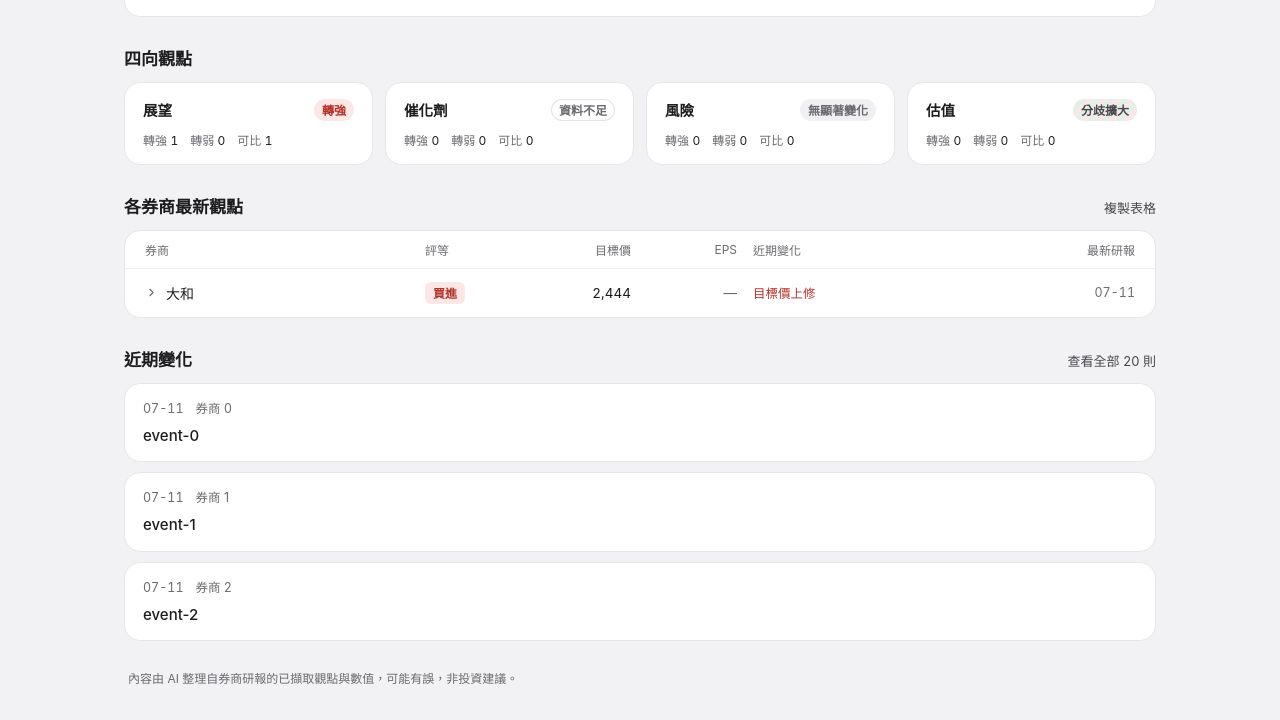
Test: RadarPage › 完整事件首次請求失敗時保留預覽，重試後恢復
(page scrolled)
What coordinates should you click on to do the following:
click the button "查看全部 20 則"
I would click on:
 (1112, 360)
Its box is [1068,351,1156,370].
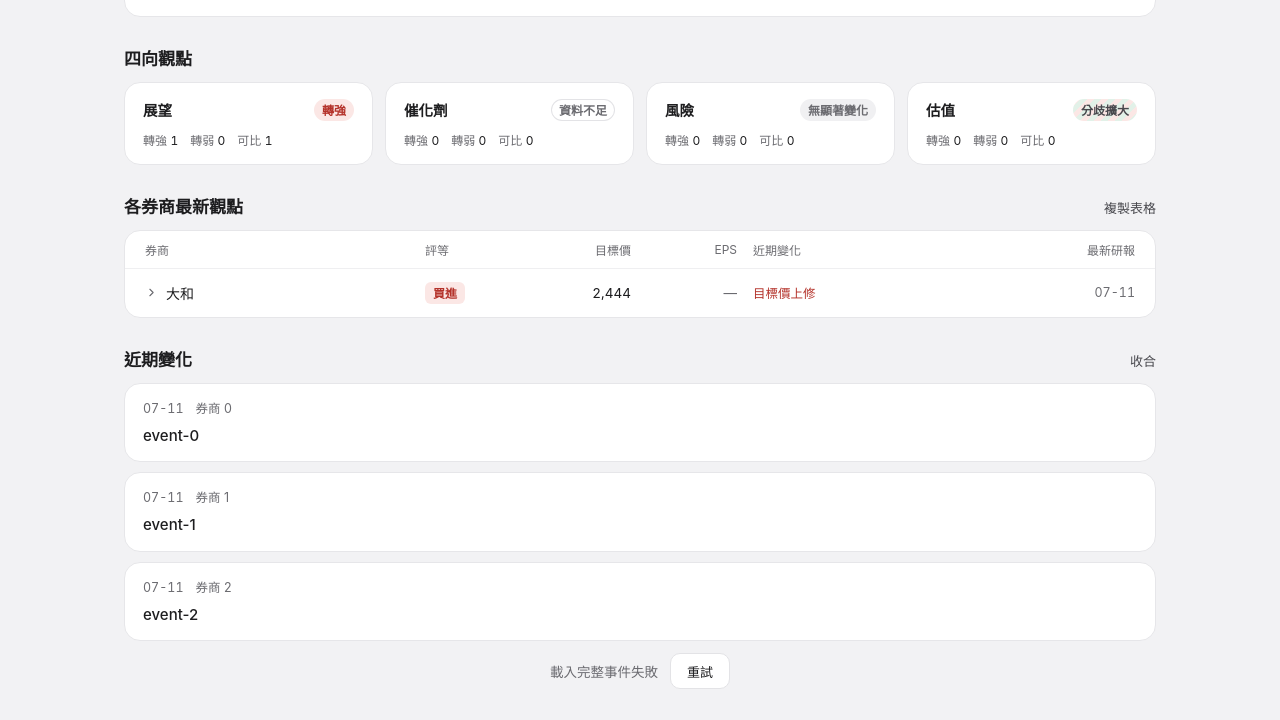
Expected: the text "event-0" is shown, [143,425,199,447]
Now the message shows "載入完整事件失敗", box [550,664,658,680]
What coordinates should you click on to do the following:
click the button "重試"
I would click on:
 (700, 671)
Its box is [670,653,730,689].
(page scrolled)
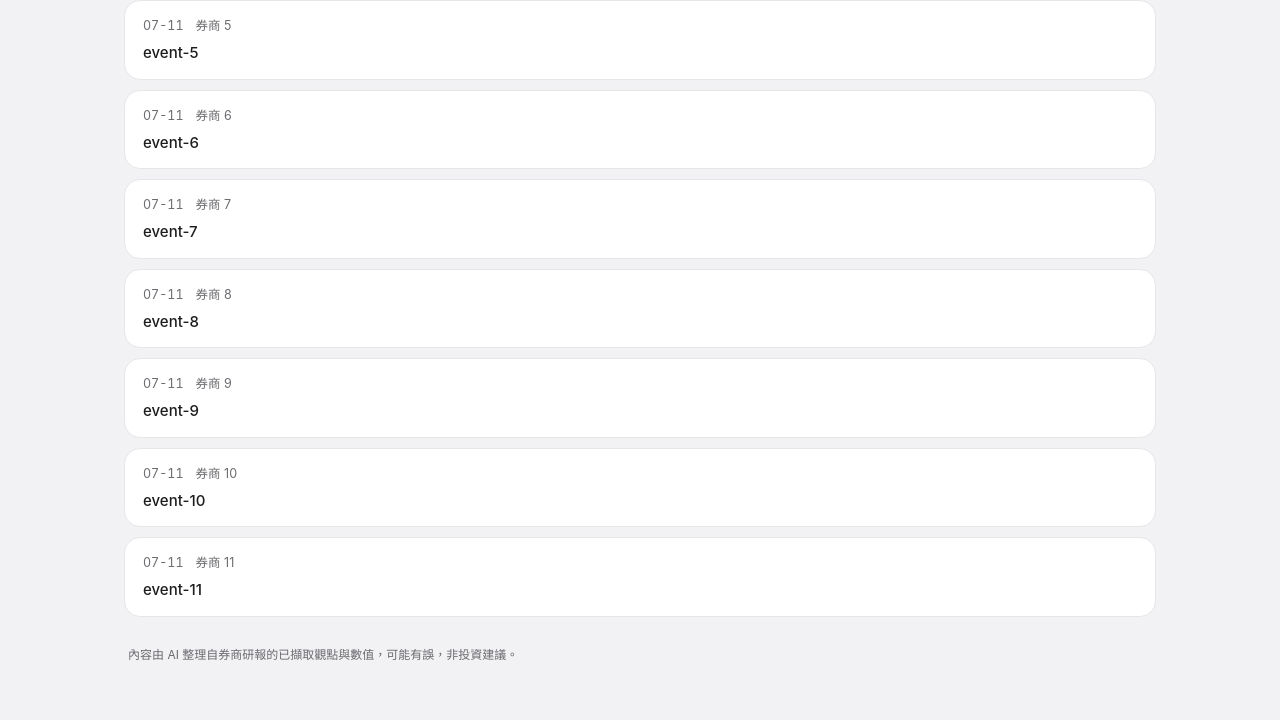
Now the text "event-11" is shown, box [143,579,202,602]
Now the message "載入完整事件失敗 重試" is gone
